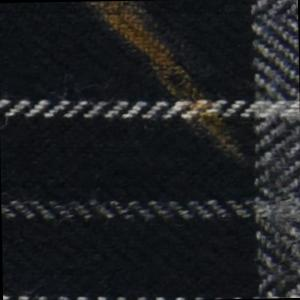Oil Stain: (85, 1, 251, 172)
